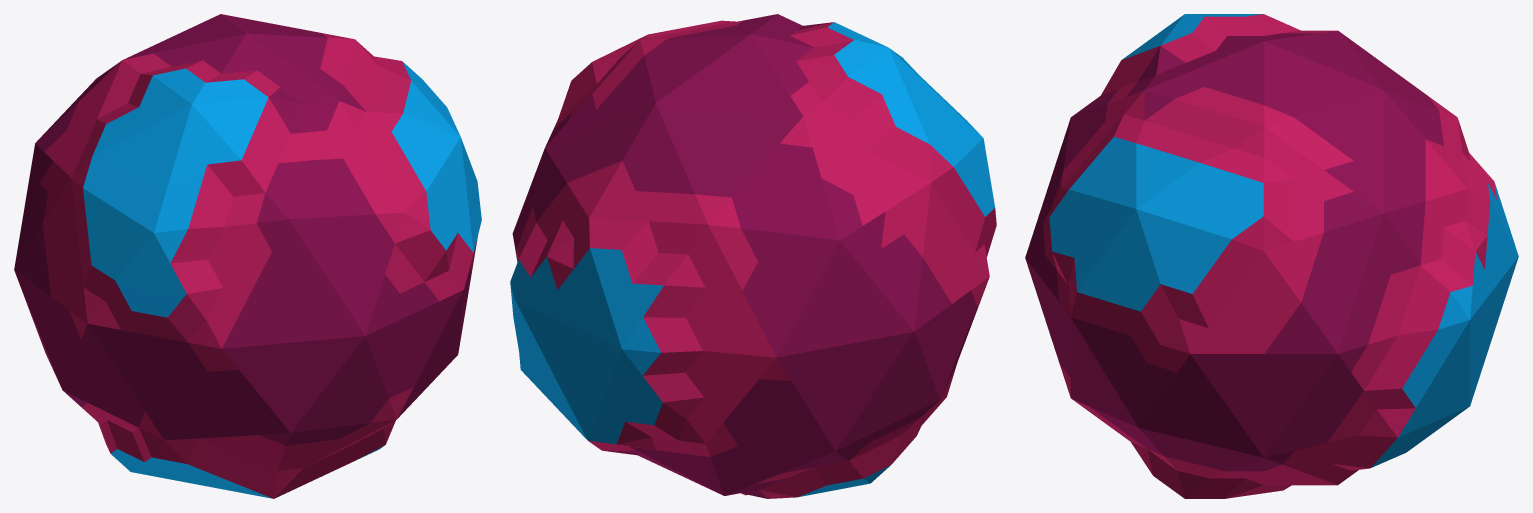
Rendered from pink-planet.fbx.
3 views of the same model, side by side, from view 1: azimuth 30°, elevation 25°; view 2: azimuth 150°, elevation 25°; view 3: azimuth 270°, elevation 25° (orthographic). The views are drawn at different scales.
Visible parts, largest first — view 1: Icosphere; view 2: Icosphere; view 3: Icosphere.
Boxes of the visible parts, x1,y1,x2,y2 form: Icosphere: (14,14,481,498); Icosphere: (510,14,996,498); Icosphere: (1025,14,1518,498).
Size of the model in its own units: 190 by 206 by 206.
